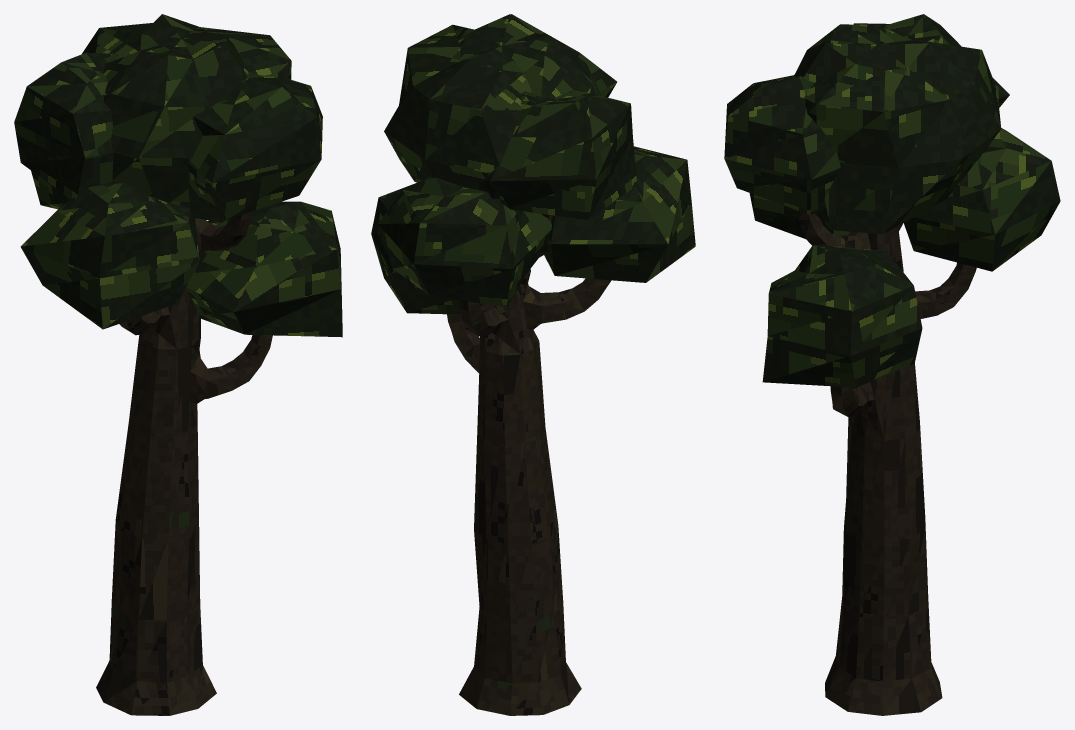
The model's file is forest_tree_prop_a.glb.
3 renders of one model, left to right at view 1: azimuth 30°, elevation 25°; view 2: azimuth 150°, elevation 25°; view 3: azimuth 270°, elevation 25°, orthographic. The views are drawn at different scales.
Visible parts, largest first — view 1: ForestTreePropA; view 2: ForestTreePropA; view 3: ForestTreePropA.
Part boxes in pixels (bbox=[...]): ForestTreePropA: bbox=[14, 14, 342, 715]; ForestTreePropA: bbox=[371, 14, 695, 715]; ForestTreePropA: bbox=[724, 14, 1060, 715].
Size of what is drawn, in the model's own units: 4.11 by 8.31 by 3.8.
1 material, 1 textured.
